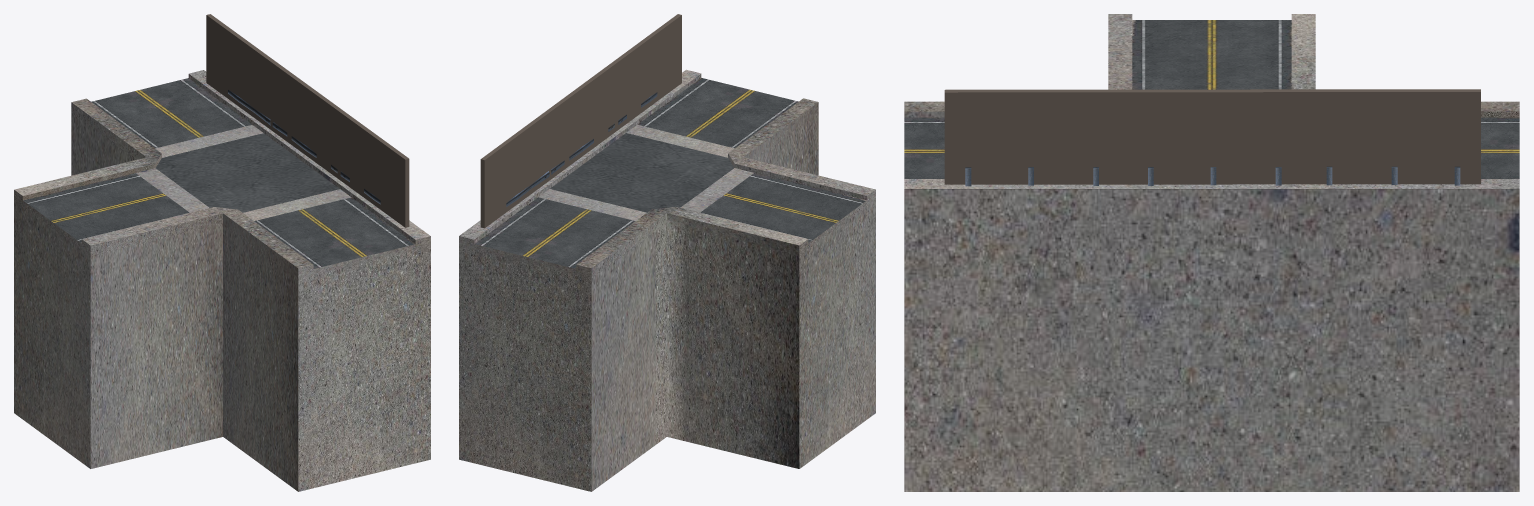
Rendered from T-section.fbx.
3 views of the same model, side by side, from view 1: azimuth 30°, elevation 25°; view 2: azimuth 150°, elevation 25°; view 3: azimuth 270°, elevation 25° (orthographic). The views are drawn at different scales.
Parts seen in each view (by area): view 1: Plane.017, Plane.039; view 2: Plane.017, Plane.039; view 3: Plane.017, Plane.039.
Part boxes in pixels (left/top/right/bottom): Plane.017: left=14, top=70, right=430, bottom=491; Plane.039: left=206, top=14, right=409, bottom=227; Plane.017: left=459, top=69, right=875, bottom=491; Plane.039: left=480, top=14, right=681, bottom=228; Plane.017: left=904, top=14, right=1519, bottom=491; Plane.039: left=944, top=89, right=1480, bottom=184.
Bounding box in the file's own units: 2600 × 2735 × 3860.
